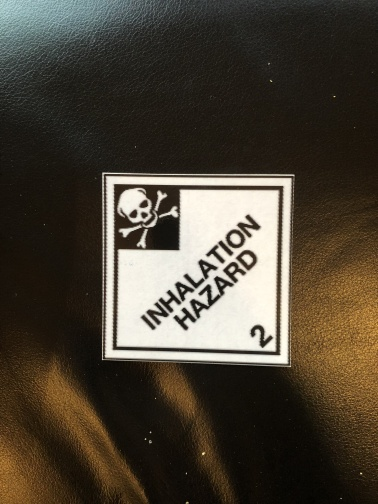InhalationHazard: (100, 172, 296, 367)
